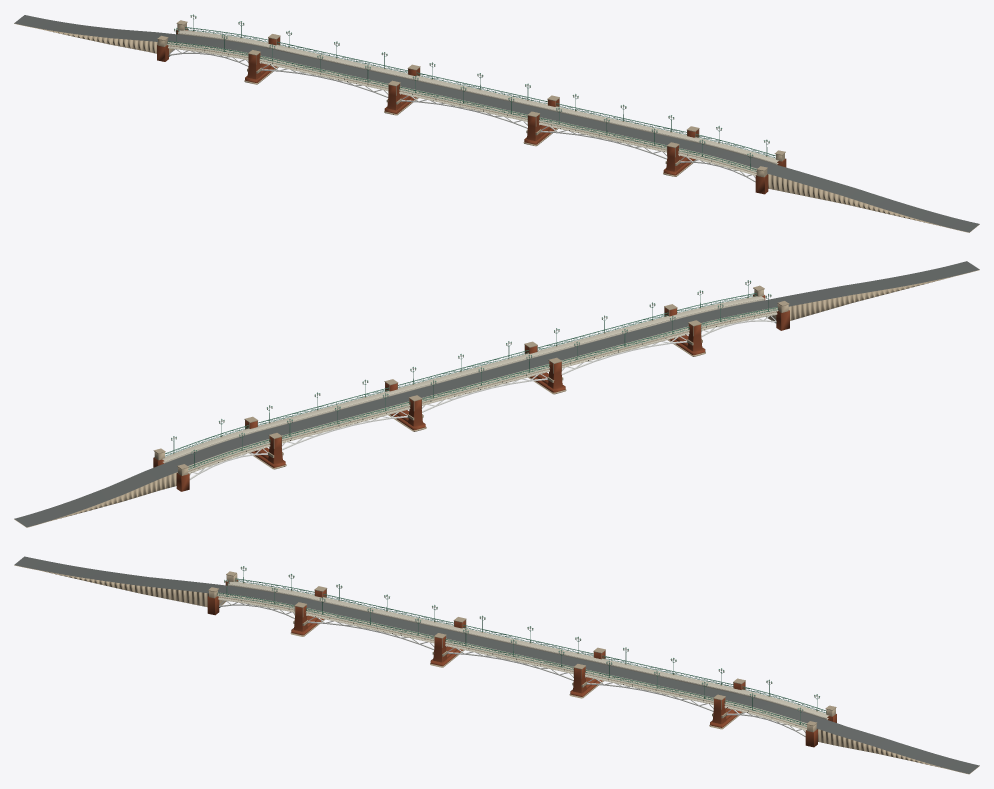
The model's file is pont-saint-pierre-far.glb.
3 renders of one model, top to bottom at view 1: azimuth 90°, elevation 25°; view 2: azimuth 150°, elevation 25°; view 3: azimuth 270°, elevation 25°, orthographic. The views are drawn at different scales.
Visible parts, largest first — view 1: pont-saint-pierre-0-asphalt, pont-saint-pierre-0-concrete, pont-saint-pierre-0-stone, pont-saint-pierre-0-rail, pont-saint-pierre-0-brick, pont-saint-pierre-0-lattice; view 2: pont-saint-pierre-0-asphalt, pont-saint-pierre-0-concrete, pont-saint-pierre-0-stone, pont-saint-pierre-0-rail, pont-saint-pierre-0-brick, pont-saint-pierre-0-lattice; view 3: pont-saint-pierre-0-asphalt, pont-saint-pierre-0-concrete, pont-saint-pierre-0-stone, pont-saint-pierre-0-rail, pont-saint-pierre-0-brick, pont-saint-pierre-0-lattice.
Part boxes in pixels (x1=…): pont-saint-pierre-0-asphalt: x1=14, y1=15, x2=979, y2=232; pont-saint-pierre-0-concrete: x1=167, y1=30, x2=778, y2=175; pont-saint-pierre-0-stone: x1=14, y1=20, x2=979, y2=232; pont-saint-pierre-0-rail: x1=167, y1=14, x2=775, y2=171; pont-saint-pierre-0-brick: x1=157, y1=28, x2=786, y2=194; pont-saint-pierre-0-lattice: x1=169, y1=48, x2=755, y2=182; pont-saint-pierre-0-asphalt: x1=14, y1=261, x2=979, y2=527; pont-saint-pierre-0-concrete: x1=162, y1=296, x2=778, y2=473; pont-saint-pierre-0-stone: x1=14, y1=269, x2=979, y2=527; pont-saint-pierre-0-rail: x1=165, y1=280, x2=777, y2=469; pont-saint-pierre-0-brick: x1=153, y1=294, x2=789, y2=491; pont-saint-pierre-0-lattice: x1=189, y1=314, x2=776, y2=479; pont-saint-pierre-0-asphalt: x1=14, y1=556, x2=979, y2=773; pont-saint-pierre-0-concrete: x1=217, y1=581, x2=828, y2=730; pont-saint-pierre-0-stone: x1=14, y1=565, x2=979, y2=774; pont-saint-pierre-0-rail: x1=217, y1=566, x2=826, y2=726; pont-saint-pierre-0-brick: x1=207, y1=580, x2=836, y2=747; pont-saint-pierre-0-lattice: x1=219, y1=599, x2=805, y2=736.
Size of the model in its own units: 180 by 15.05 by 338.
